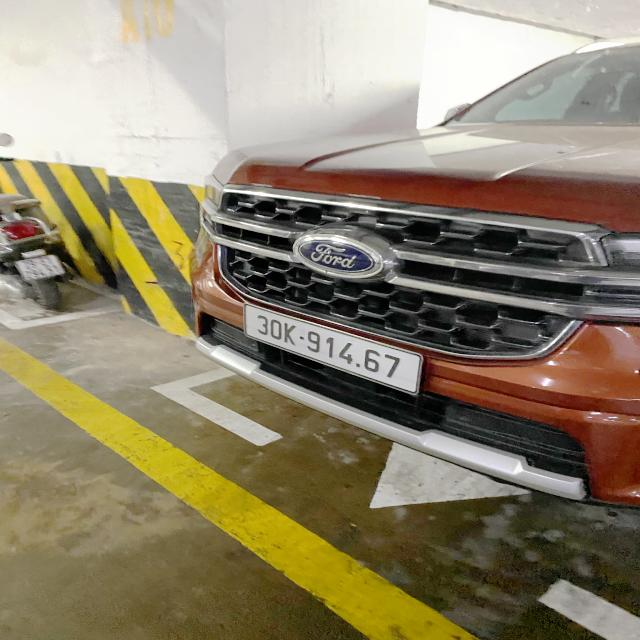license_plate: (240, 299, 432, 403)
